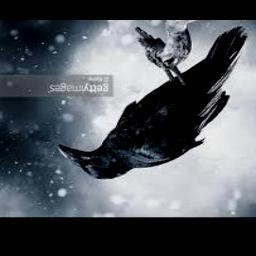Crow: (59, 27, 248, 180)
